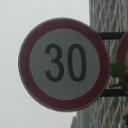speed_limit_30: (15, 14, 112, 118)
